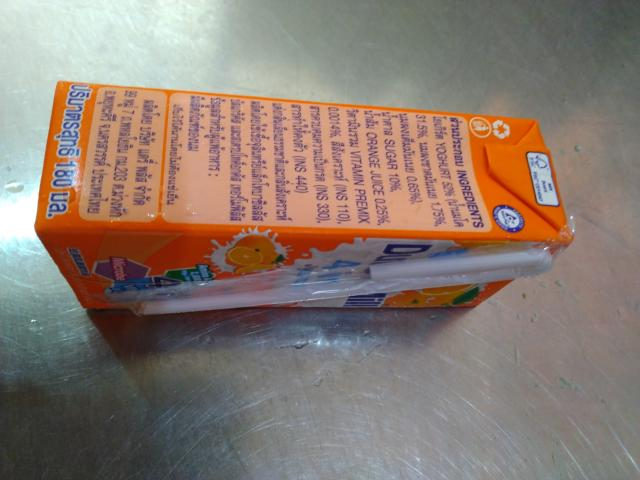drink_box: (22, 71, 592, 339)
